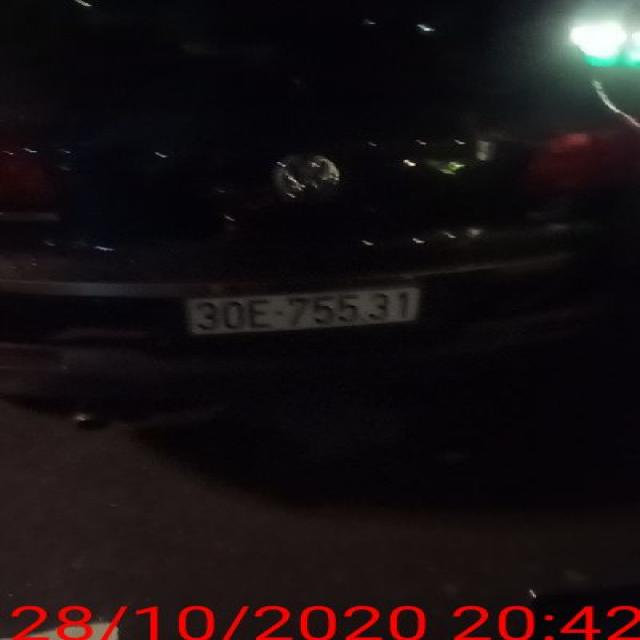biensoxehoi: (180, 288, 423, 333)
